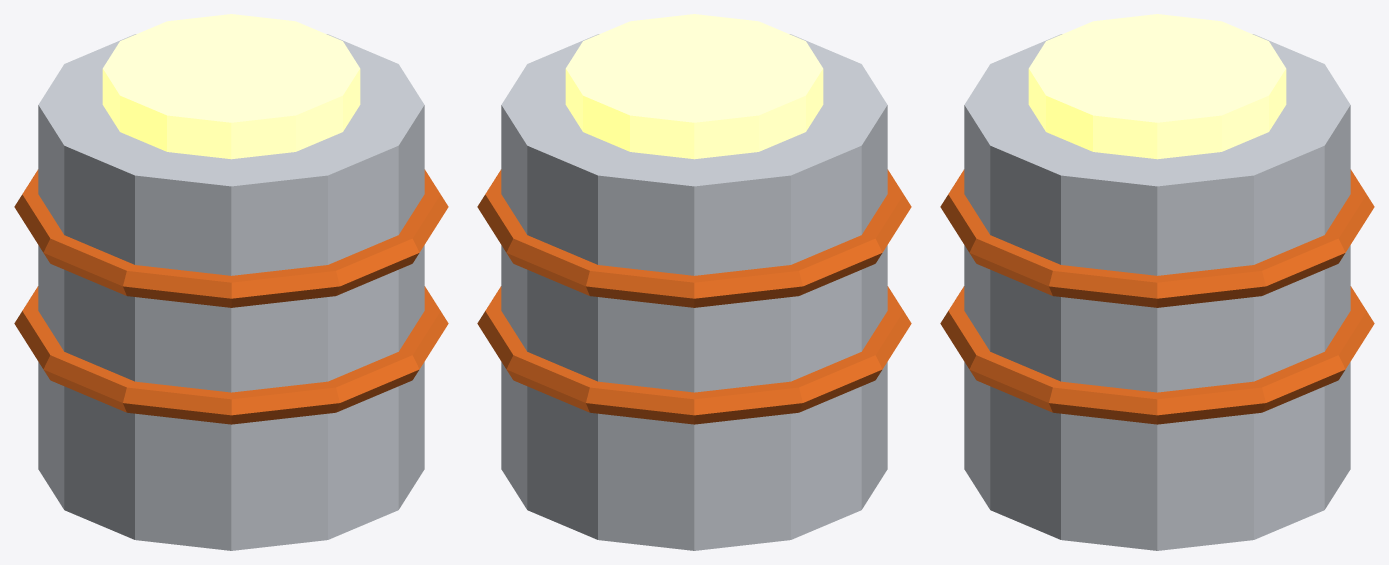
Rendered from colony-reactor.glb.
The picture shows the model from 3 angles, left to right: view 1: azimuth 30°, elevation 25°; view 2: azimuth 150°, elevation 25°; view 3: azimuth 270°, elevation 25°; orthographic projection.
Parts seen in each view (by area): view 1: reactor; view 2: reactor; view 3: reactor.
Part boxes in pixels (left/top/right/bottom): reactor: left=14, top=14, right=448, bottom=550; reactor: left=477, top=14, right=911, bottom=550; reactor: left=940, top=14, right=1374, bottom=550.
Size of the model in its own units: 2.7 by 2.75 by 2.7.
